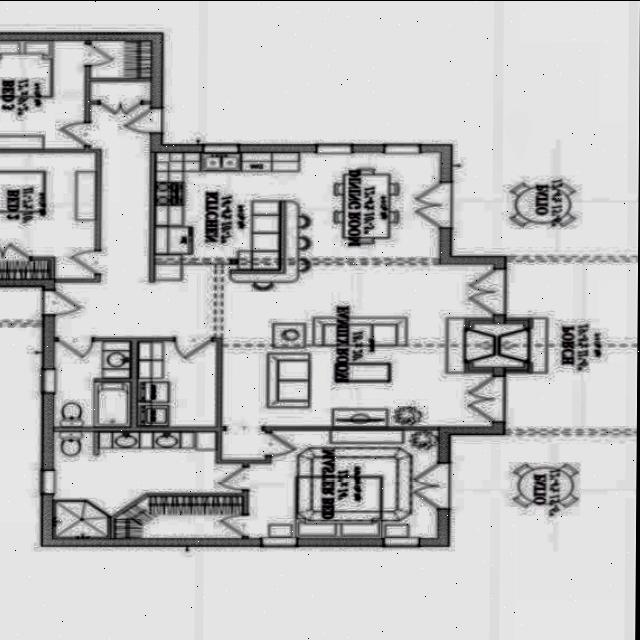room: (11, 67, 552, 519), (242, 430, 449, 537), (53, 431, 242, 537), (0, 152, 101, 278), (0, 40, 91, 148), (137, 337, 216, 425), (54, 335, 130, 426), (114, 494, 242, 538), (84, 40, 151, 77)
